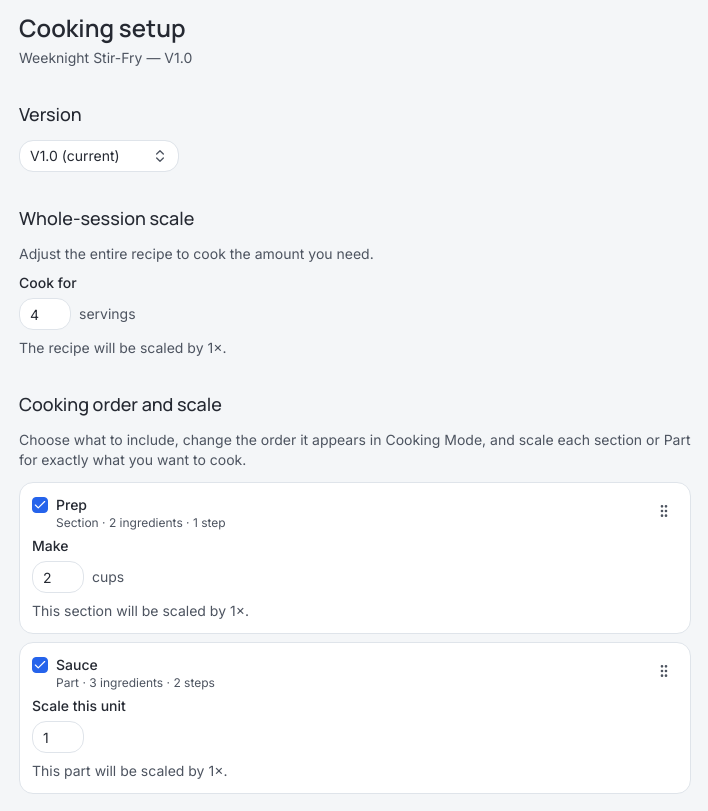
Test: CookingSetup — Whole-session scale › derives the multiplier from the user's entered target amount
Replace the text in the field labelled "Cook for" with "6". click: coordinates (45, 314)
box: 19,298 -> 71,330
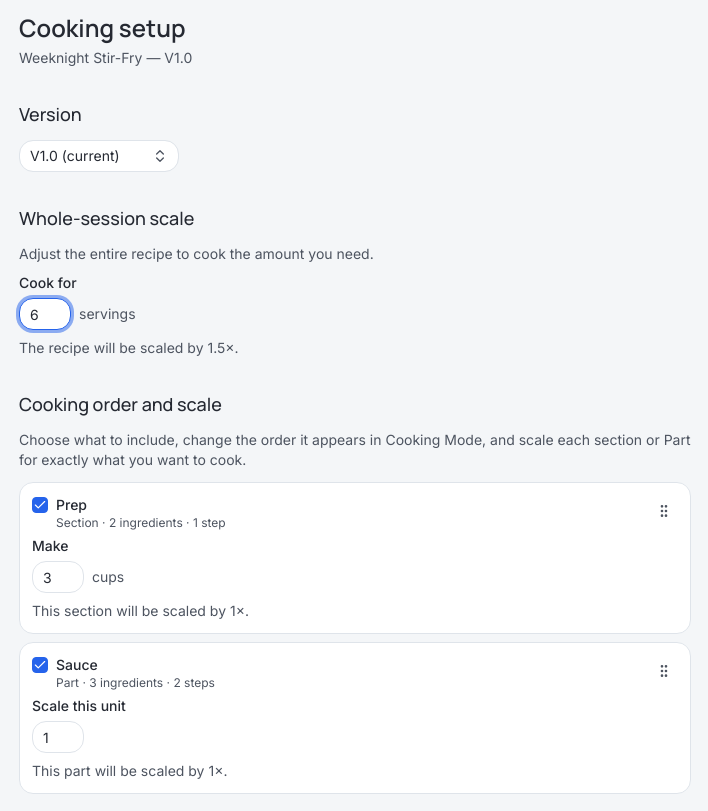
Result: the text "The recipe will be scaled by 1.5×." is shown at 19,339 -> 239,356
